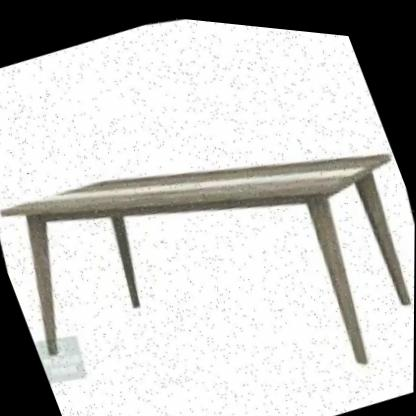Table: (0, 32, 416, 416)
